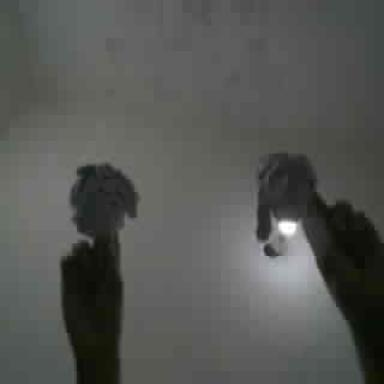paper: (70, 163, 138, 237), (258, 154, 316, 221)
